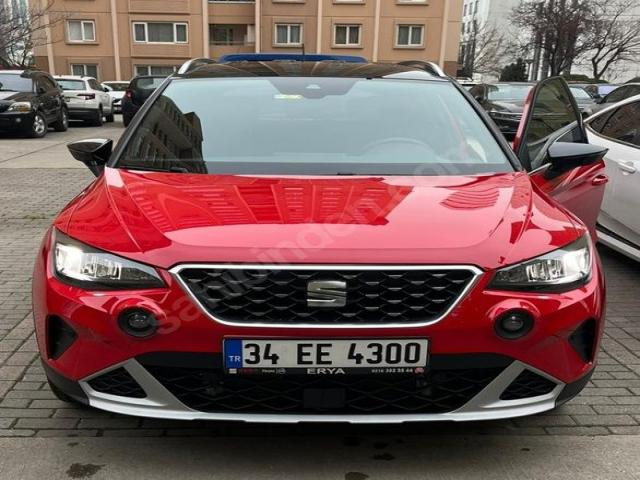plaka: (223, 338, 427, 374)
